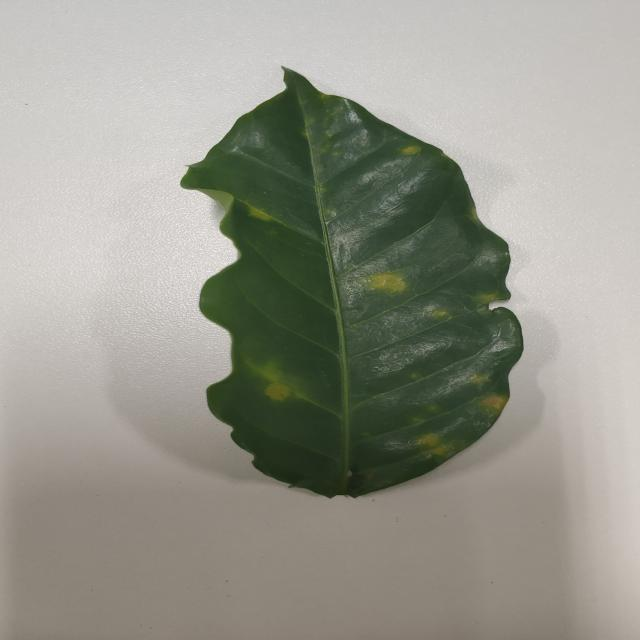Enfermedad-Roya: (178, 69, 526, 501)
